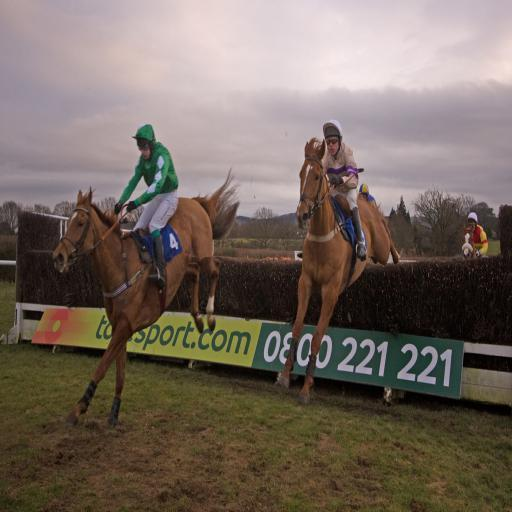horse: (53, 168, 241, 432), (274, 138, 398, 406), (462, 221, 490, 259), (461, 220, 477, 260)
